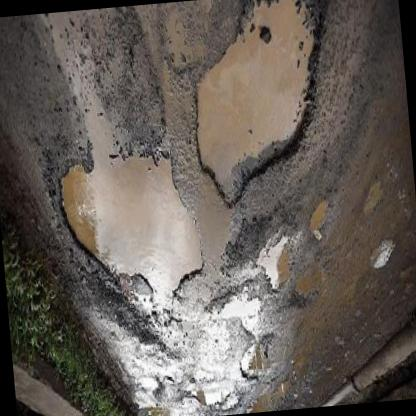pothole: (183, 0, 351, 214), (55, 143, 208, 318), (258, 233, 301, 296), (290, 264, 327, 310), (236, 336, 270, 386), (306, 197, 335, 242), (190, 387, 232, 411), (138, 374, 162, 402)
